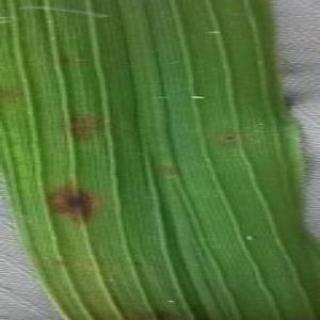bercak-Cokelat: (46, 180, 115, 240)
